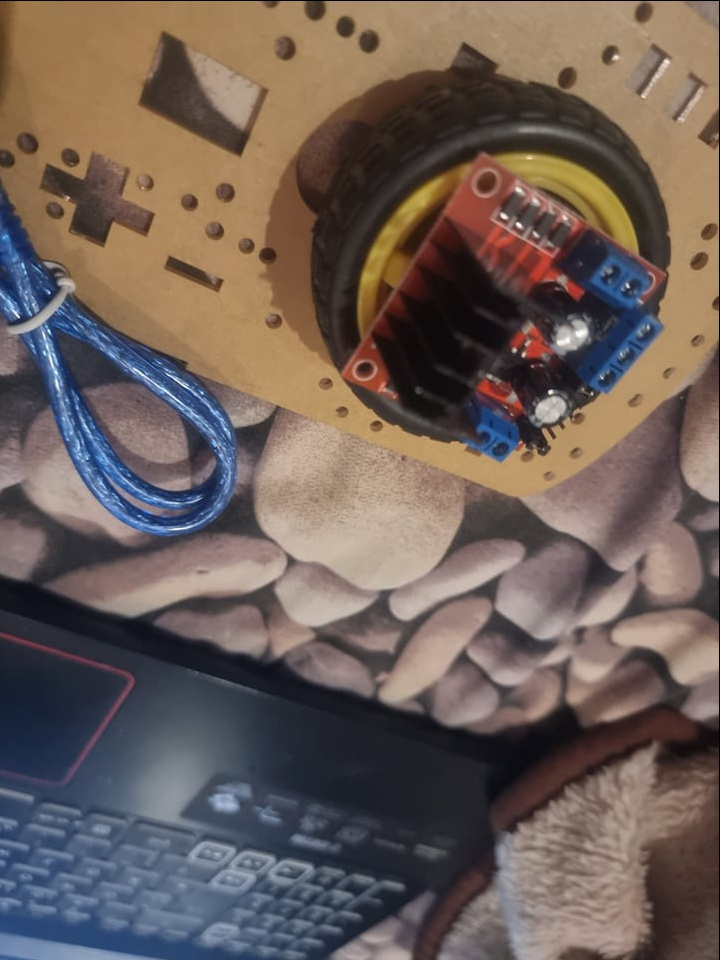MOTOR: (343, 146, 667, 457)
